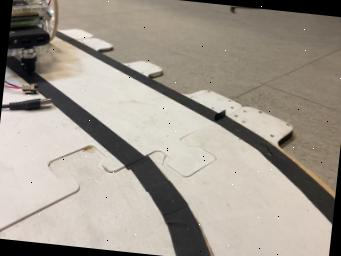street: (0, 38, 334, 256), (0, 38, 334, 256), (0, 38, 334, 256)
